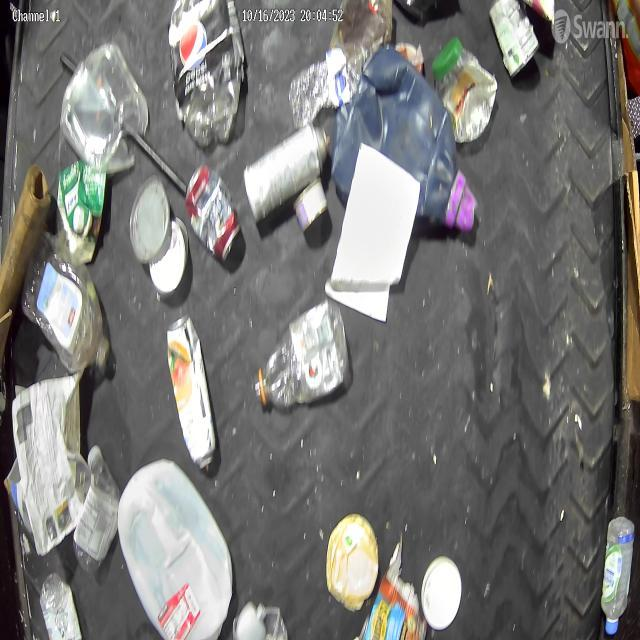can: (184, 164, 242, 262), (489, 0, 540, 80), (150, 215, 190, 293), (293, 176, 328, 232)
milk_jug: (117, 457, 233, 640)
non_white_jug: (332, 42, 478, 232)
plastic_bottle: (20, 228, 111, 374), (253, 300, 349, 408), (72, 444, 120, 576), (600, 516, 635, 634), (38, 571, 82, 640)
